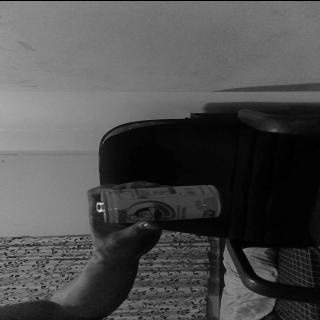alumunium_can: (92, 182, 224, 222)
